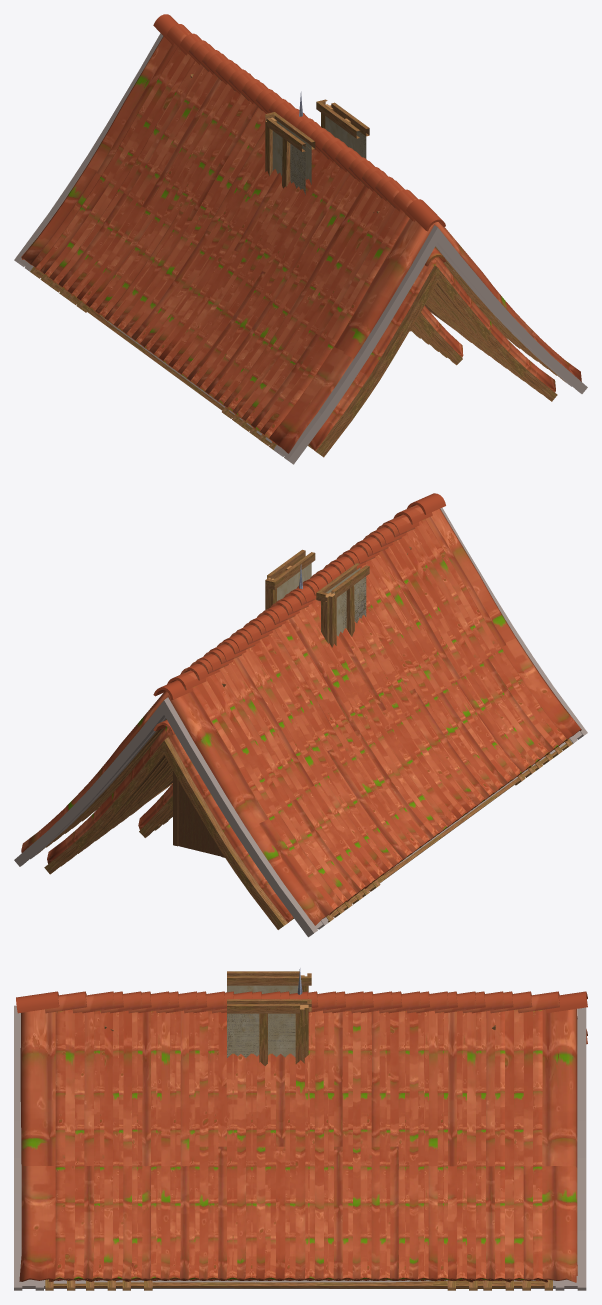
The model's file is village.glb.
3 renders of one model, top to bottom at view 1: azimuth 30°, elevation 25°; view 2: azimuth 150°, elevation 25°; view 3: azimuth 270°, elevation 25°, orthographic. The views are drawn at different scales.
Visible parts, largest first — view 1: Roof_RoundTiles_8x14, Roof_RoundTiles_8x12, Roof_RoundTiles_8x10, Roof_RoundTiles_6x14, Roof_RoundTiles_8x8, Overhang_Side_Plaster_Long_L, Overhang_Side_Plaster_Long_R, Roof_RoundTiles_4x8, Overhang_Side_Plaster_Short_L; view 2: Roof_RoundTiles_8x14, Roof_RoundTiles_8x10, Roof_RoundTiles_8x12, Roof_RoundTiles_8x8, Roof_RoundTiles_6x14, Stair_Interior_SolidExtended, Overhang_Side_Plaster_Long_L, Overhang_Side_Plaster_Long_R, Overhang_Side_Plaster_Short_L, Roof_RoundTiles_4x8; view 3: Roof_RoundTiles_8x14, Roof_RoundTiles_8x12, Roof_RoundTiles_8x10, Roof_RoundTiles_8x8, Overhang_Side_Plaster_Long_R, Overhang_Side_Plaster_Long_L, Overhang_Side_Plaster_Short_R, Overhang_Side_UnevenBrick_Long_R.
Boxes of the visible parts, x1=… form: Roof_RoundTiles_8x14: x1=14, y1=14, x2=587, y2=464; Roof_RoundTiles_8x12: x1=30, y1=24, x2=565, y2=449; Roof_RoundTiles_8x10: x1=48, y1=40, x2=547, y2=438; Roof_RoundTiles_6x14: x1=308, y1=248, x2=557, y2=457; Roof_RoundTiles_8x8: x1=66, y1=50, x2=529, y2=424; Overhang_Side_Plaster_Long_L: x1=265, y1=112, x2=315, y2=194; Overhang_Side_Plaster_Long_R: x1=316, y1=100, x2=369, y2=158; Roof_RoundTiles_4x8: x1=413, y1=305, x2=463, y2=365; Overhang_Side_Plaster_Short_L: x1=265, y1=114, x2=293, y2=188; Roof_RoundTiles_8x14: x1=14, y1=493, x2=587, y2=937; Roof_RoundTiles_8x10: x1=54, y1=523, x2=553, y2=910; Roof_RoundTiles_8x12: x1=36, y1=505, x2=572, y2=922; Roof_RoundTiles_8x8: x1=72, y1=533, x2=535, y2=896; Roof_RoundTiles_6x14: x1=44, y1=720, x2=293, y2=929; Stair_Interior_SolidExtended: x1=173, y1=771, x2=224, y2=857; Overhang_Side_Plaster_Long_L: x1=316, y1=563, x2=369, y2=647; Overhang_Side_Plaster_Long_R: x1=265, y1=549, x2=315, y2=609; Overhang_Side_Plaster_Short_L: x1=317, y1=576, x2=354, y2=645; Roof_RoundTiles_4x8: x1=138, y1=783, x2=172, y2=837; Roof_RoundTiles_8x14: x1=14, y1=991, x2=587, y2=1290; Roof_RoundTiles_8x12: x1=45, y1=991, x2=559, y2=1290; Roof_RoundTiles_8x10: x1=82, y1=991, x2=513, y2=1290; Roof_RoundTiles_8x8: x1=122, y1=991, x2=485, y2=1290; Overhang_Side_Plaster_Long_R: x1=227, y1=999, x2=311, y2=1065; Overhang_Side_Plaster_Long_L: x1=227, y1=971, x2=311, y2=993; Overhang_Side_Plaster_Short_R: x1=259, y1=999, x2=311, y2=1064; Overhang_Side_UnevenBrick_Long_R: x1=227, y1=1014, x2=295, y2=1057.
Size of the model in its own units: 9.95 by 8.91 by 15.71.
9 materials, 8 textured.
